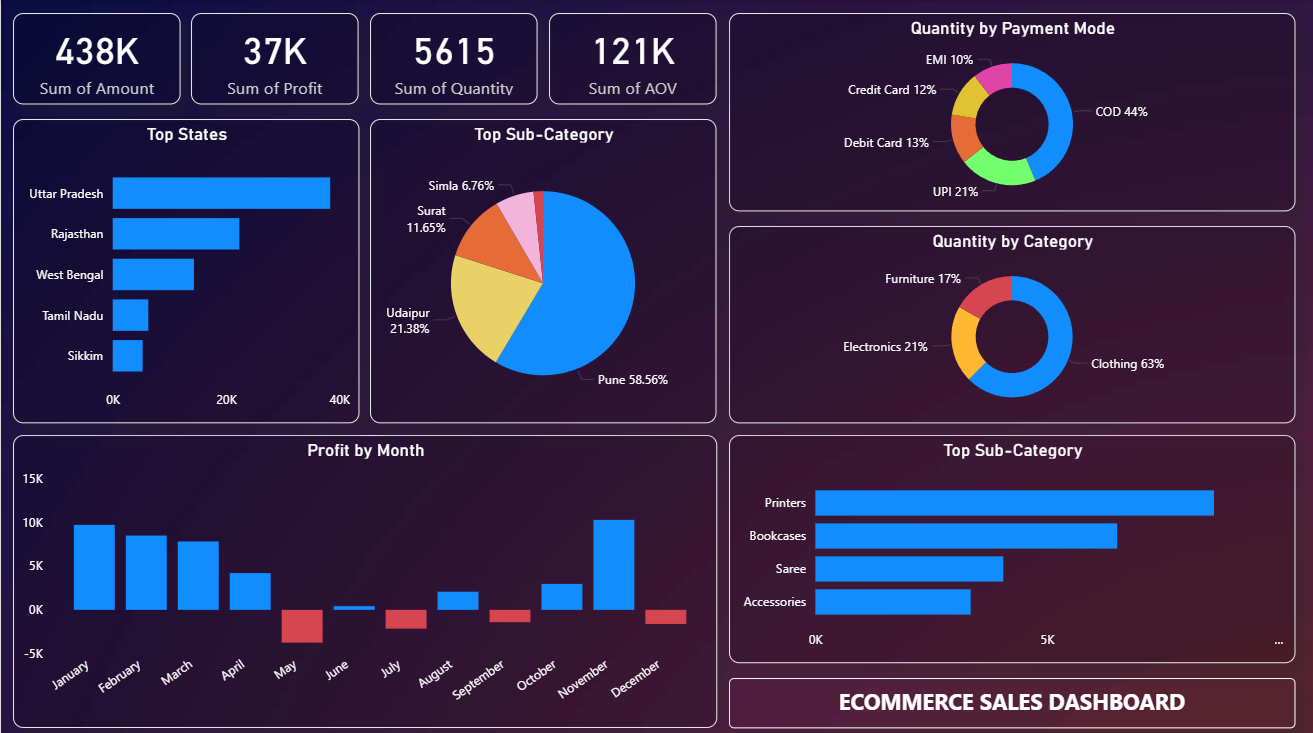

The dashboard page shown, as its layout file describes it:
{"tool":"powerbi","page":{"name":"Page 1","canvas":[1280,720],"ordinal":0},"visuals":[{"type":"textbox","box":[708.1,659.5,550.5,48.6],"z":0},{"type":"columnChart","title":"Profit by Month","fields":{"Category":["Orders.ParsedDate.Variation.Date Hierarchy.Month"],"Y":["Sum(Details.Profit)"]},"box":[11.7,423.1,684.7,285],"z":1000},{"type":"barChart","title":"Top Sub-Category","fields":{"Category":["Details.Sub-Category"],"Y":["Sum(Details.Profit)"]},"box":[708.1,423.1,550.5,221.8],"z":2000},{"type":"donutChart","title":"Quantity by Category","fields":{"Category":["Details.Category"],"Y":["Sum(Details.Quantity)"]},"box":[708.1,219.8,550.5,191.6],"z":3000},{"type":"donutChart","title":"Quantity by Payment Mode","fields":{"Y":["Sum(Details.Quantity)"],"Category":["Details.PaymentMode"]},"box":[708.1,12.6,550.5,192.6],"z":4000},{"type":"card","fields":{"Values":["Sum(Details.Amount)"]},"box":[11.7,12.6,163.4,88.5],"z":5000},{"type":"card","fields":{"Values":["Sum(Details.Profit)"]},"box":[184.8,12.6,163.4,88.5],"z":6000},{"type":"card","fields":{"Values":["Sum(Details.Quantity)"]},"box":[358.9,12.6,163.4,88.5],"z":7000},{"type":"card","fields":{"Values":["Sum(Details.ADV)"]},"box":[533,12.6,163.4,88.5],"z":8000},{"type":"barChart","title":"Top States ","fields":{"Y":["Sum(Details.Amount)"],"Category":["Orders.State"]},"box":[11.7,115.7,336.5,295.7],"z":9000},{"type":"pieChart","title":"Top Sub-Category","fields":{"Category":["Orders.City"],"Y":["Sum(Details.Profit)"]},"box":[358.9,115.7,336.5,295.7],"z":10000}]}

Visuals, with their boxes in screenshot pixels (x1, y1, x2, y2), scaled from the page's 1280x720 canvas onto the 1313x733 screenshot:
textbox: 726:671:1291:721
"Profit by Month" columnChart: 12:431:714:721
"Top Sub-Category" barChart: 726:431:1291:657
"Quantity by Category" donutChart: 726:224:1291:419
"Quantity by Payment Mode" donutChart: 726:13:1291:209
card - Sum(Details.Amount): 12:13:180:103
card - Sum(Details.Profit): 190:13:357:103
card - Sum(Details.Quantity): 368:13:536:103
card - Sum(Details.ADV): 547:13:714:103
"Top States " barChart: 12:118:357:419
"Top Sub-Category" pieChart: 368:118:713:419
